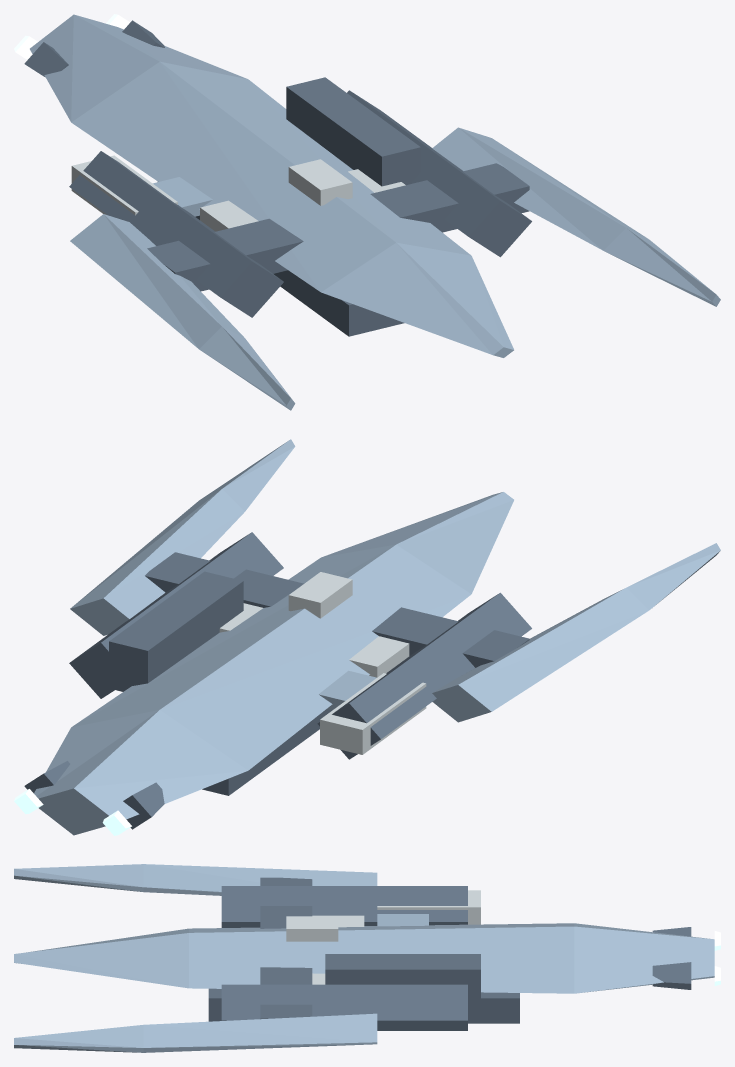
3 views of the same model, one above another, from view 1: azimuth 30°, elevation 25°; view 2: azimuth 150°, elevation 25°; view 3: azimuth 270°, elevation 25° (orthographic). The views are drawn at different scales.
Bounding box in the file's own units: 5.94 × 1.35 × 9.92.
